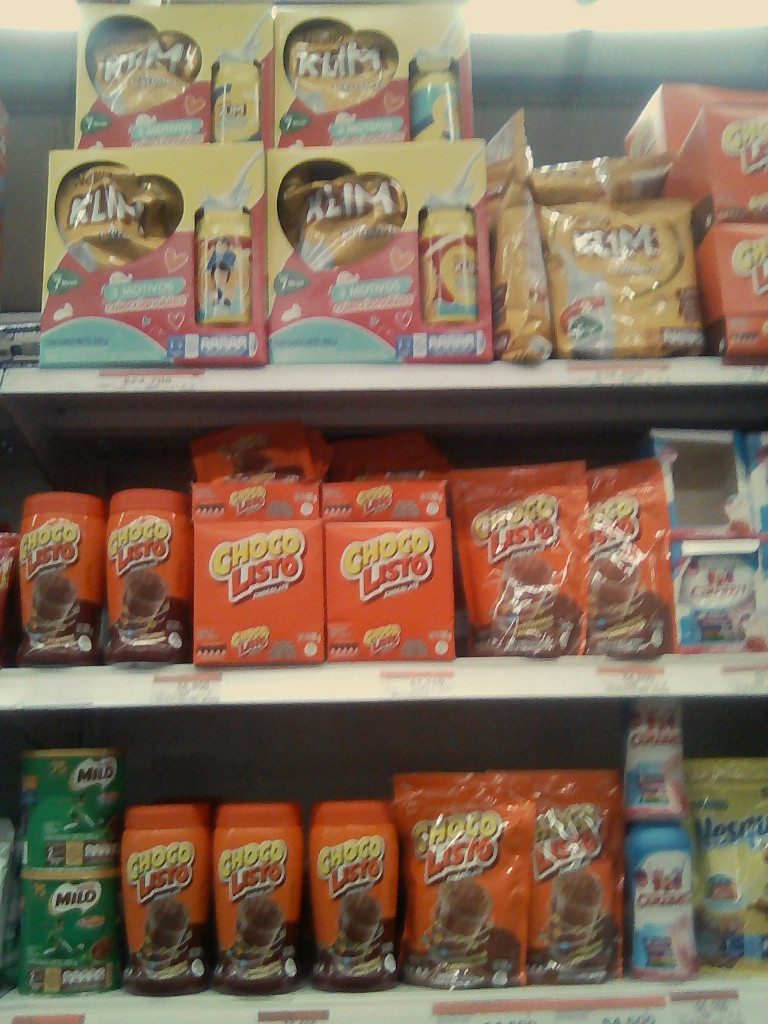COL0170103SOB02000: (191, 417, 311, 488)
COL0170303DYP20000: (689, 750, 765, 976)
